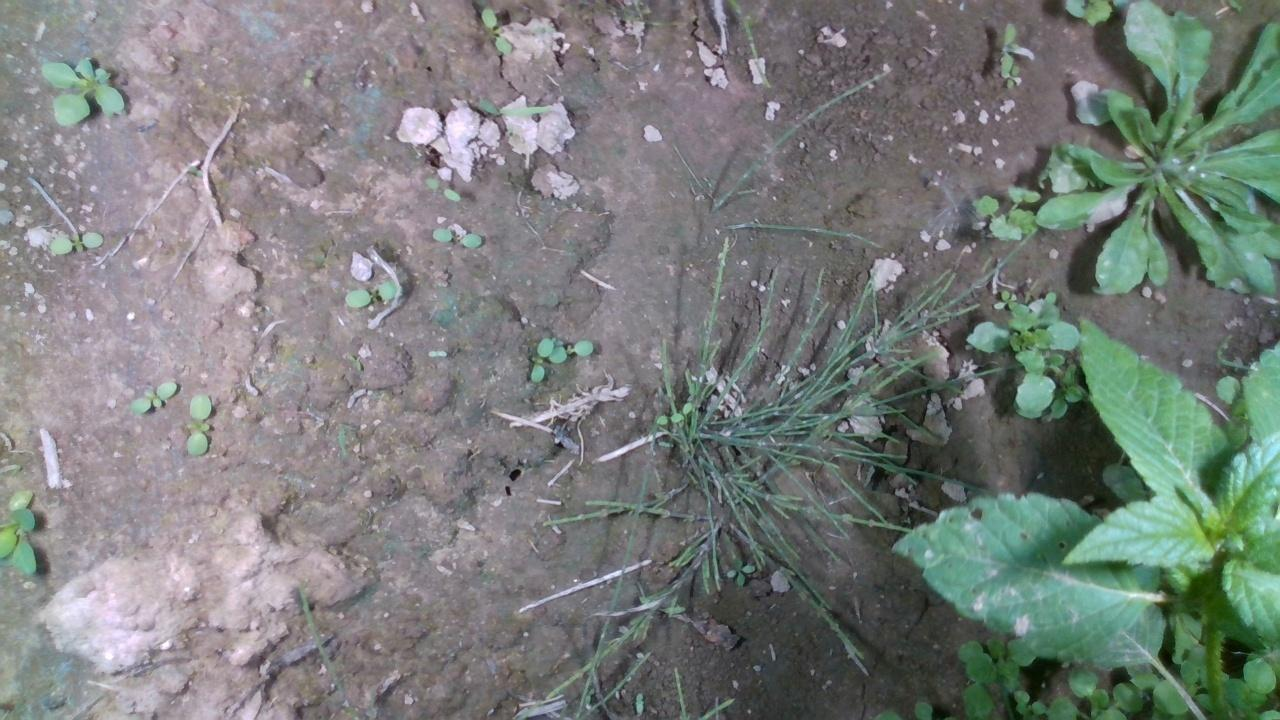weed: (39, 54, 125, 124), (184, 391, 212, 455), (127, 379, 178, 414), (479, 6, 513, 56), (343, 278, 398, 308), (45, 230, 103, 254), (429, 226, 483, 247), (423, 176, 460, 203), (300, 66, 314, 86)
